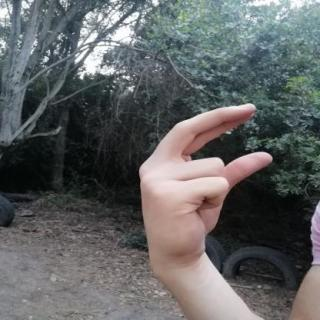DHELL: (122, 94, 284, 271)
